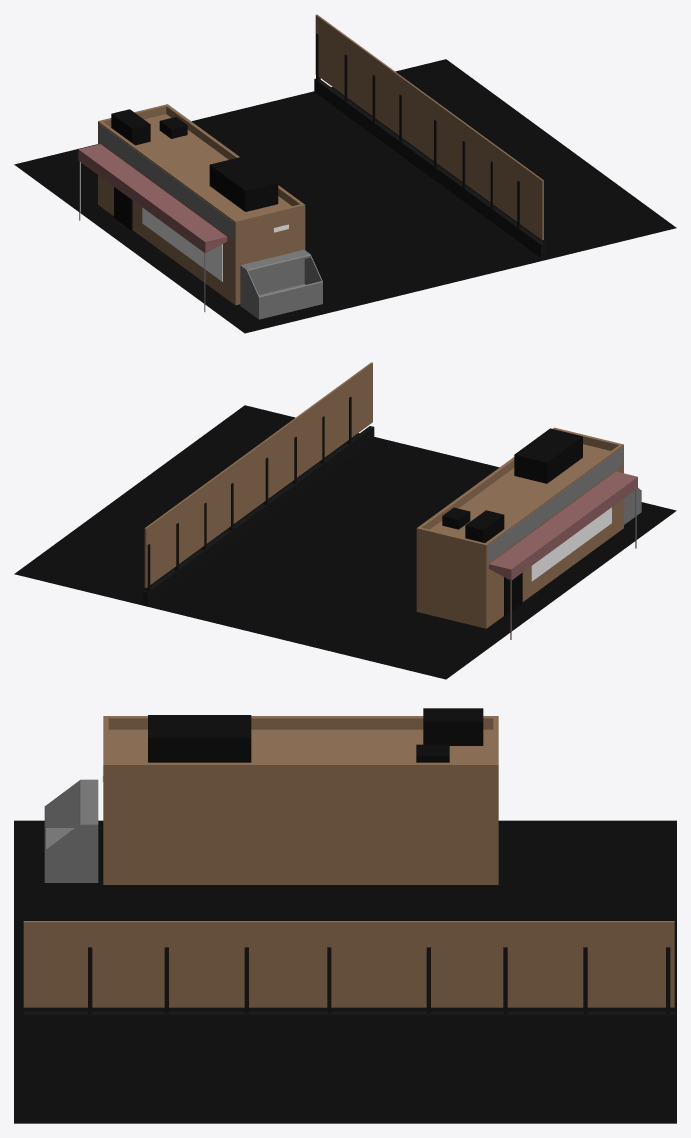
The model's file is Building_4.fbx.
3 views of the same model, one above another, from view 1: azimuth 30°, elevation 25°; view 2: azimuth 150°, elevation 25°; view 3: azimuth 270°, elevation 25° (orthographic). The views are drawn at different scales.
Visible parts, largest first — view 1: Object006; view 2: Object006; view 3: Object006.
Boxes of the visible parts, x1,y1,x2,y2 form: Object006: (14, 14, 676, 333); Object006: (14, 362, 676, 679); Object006: (14, 708, 676, 1123).
Size of the model in its own units: 865 by 201 by 800.
